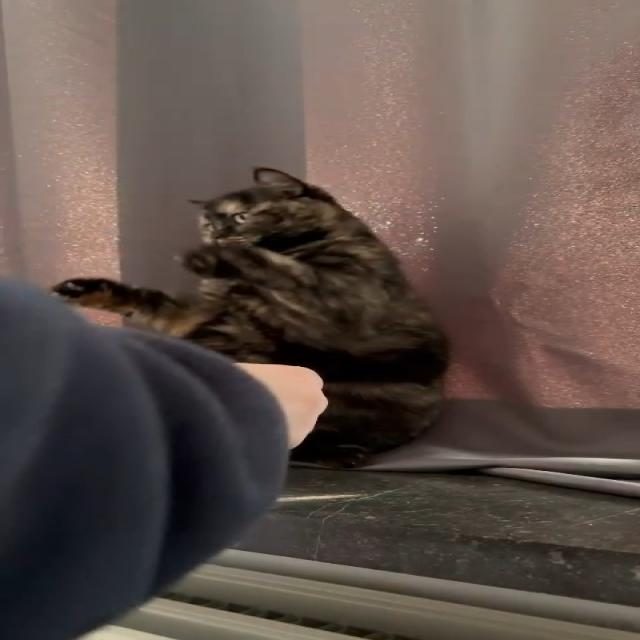authorized: (49, 165, 452, 469)
